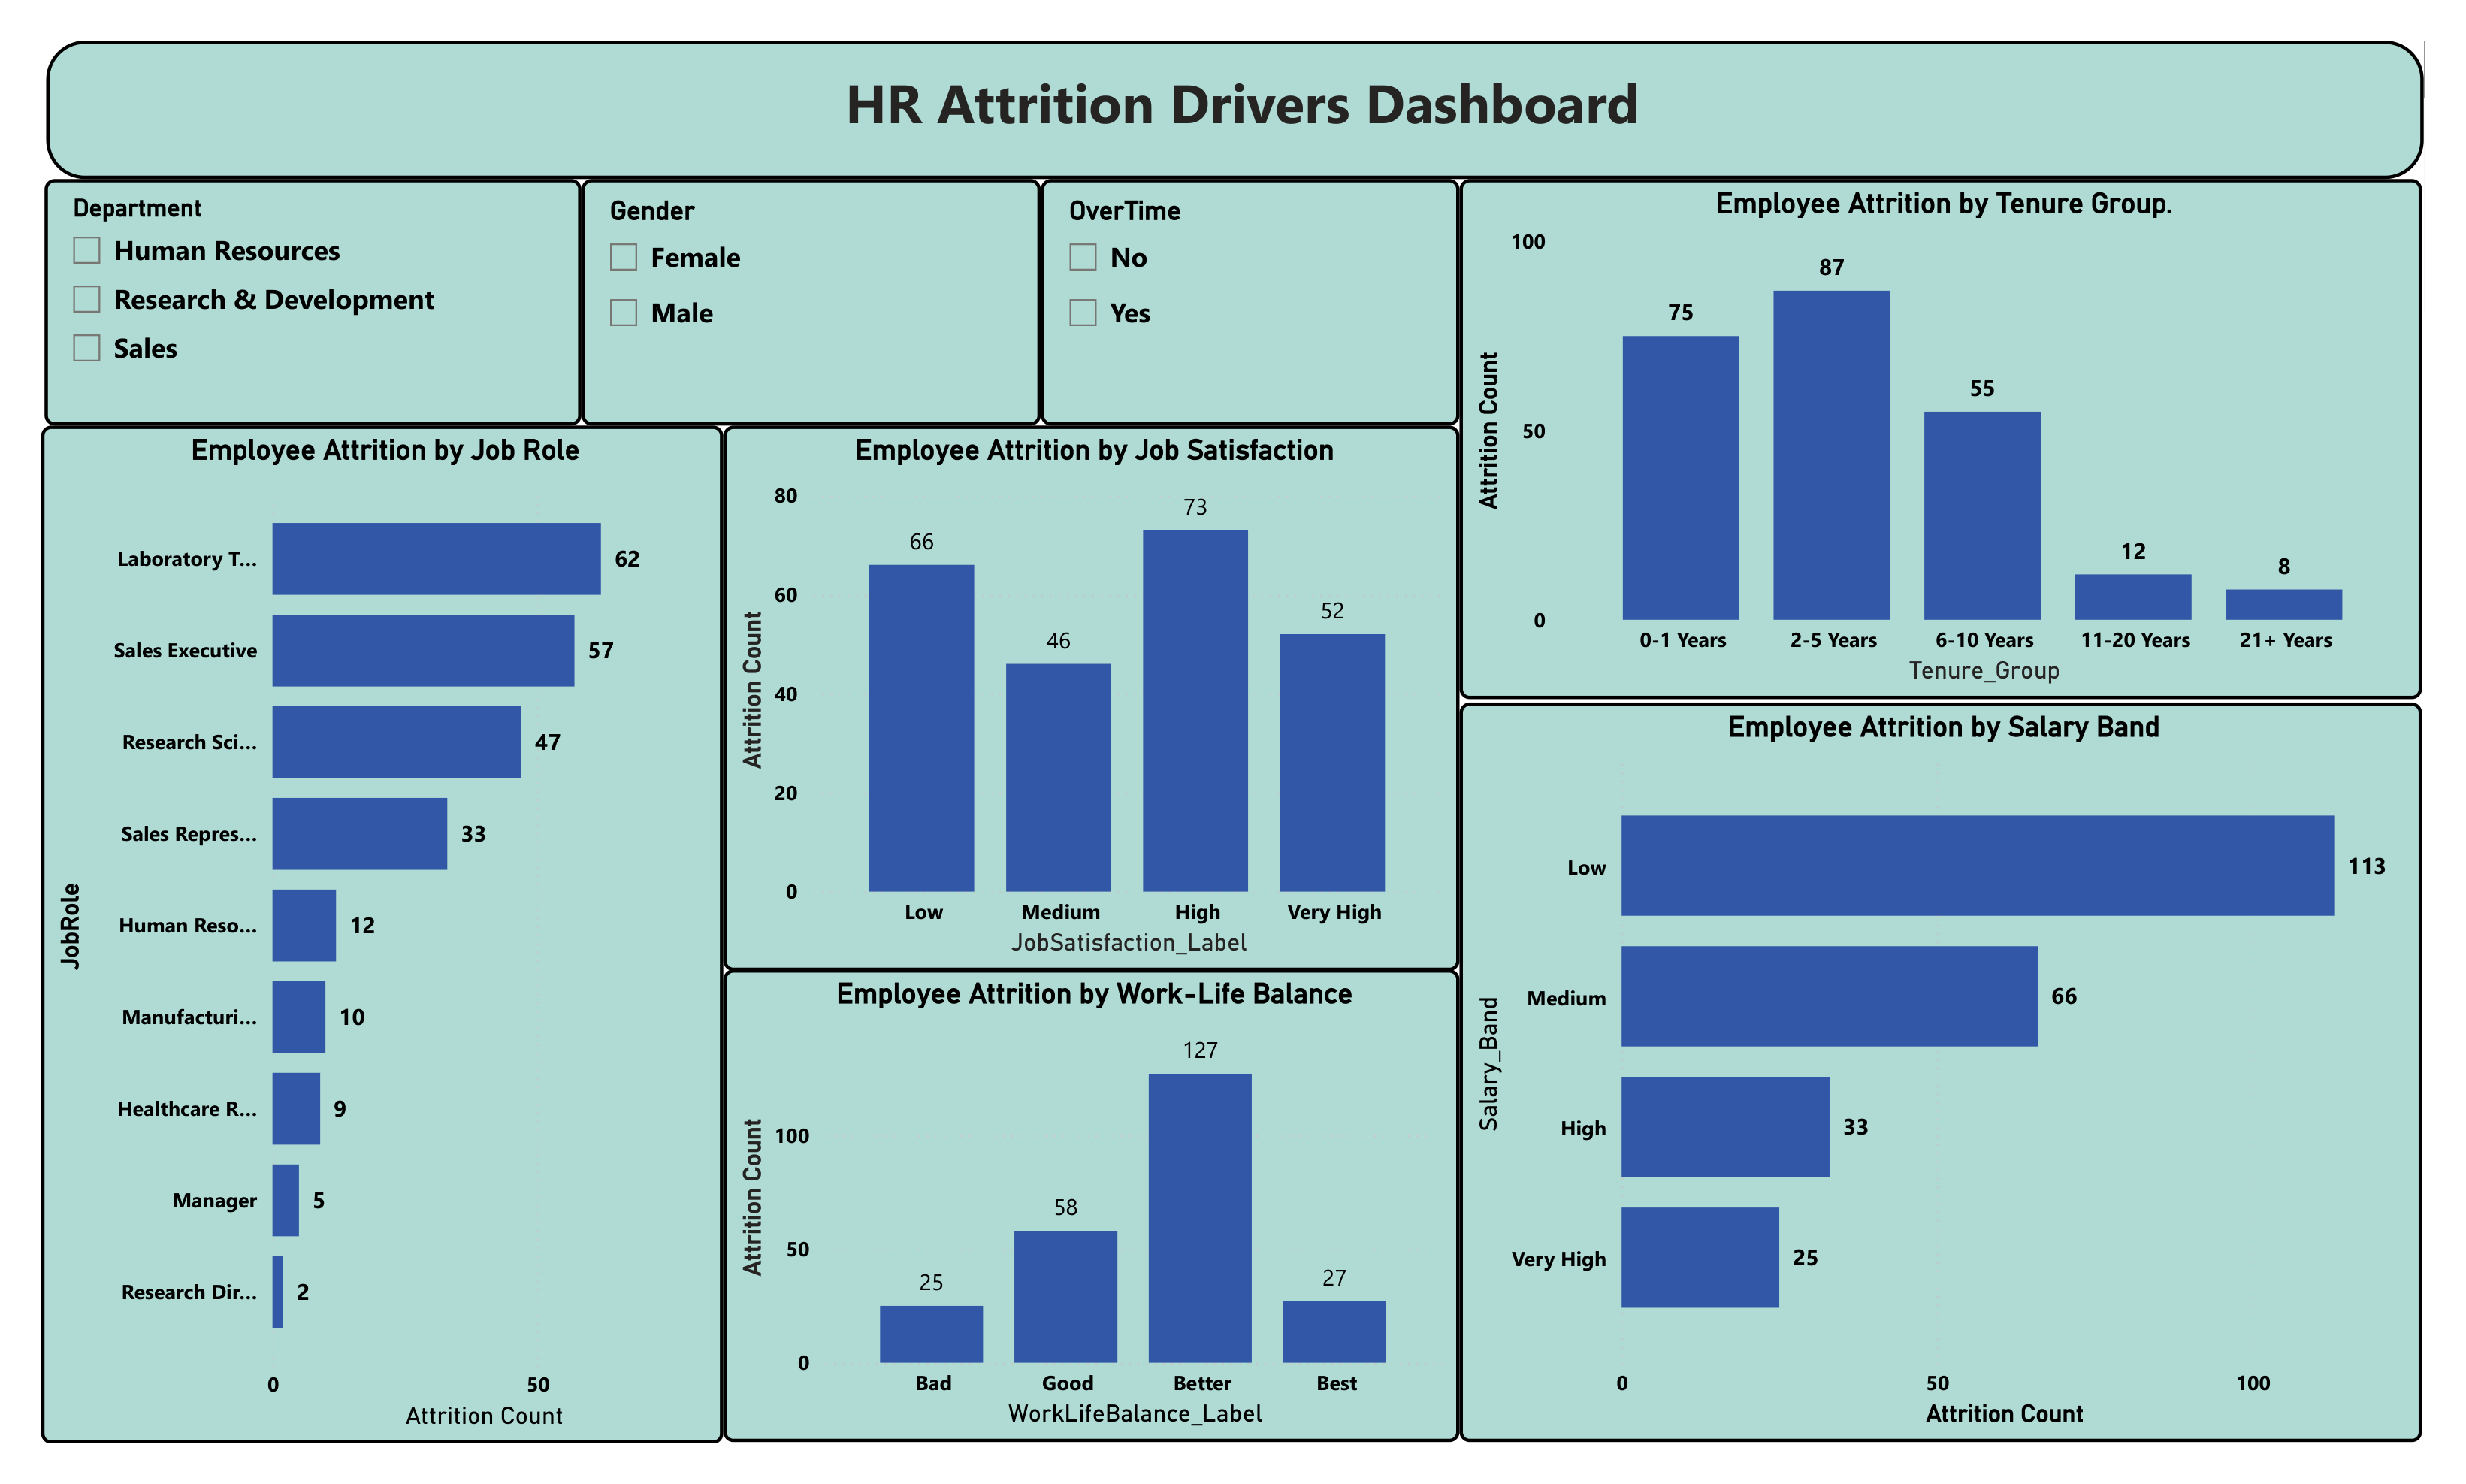

Layout of this report page (visuals, bound fields, positions):
{"tool":"powerbi","page":{"name":"Hr Attrition Drivers","canvas":[1410,800],"ordinal":1},"visuals":[{"type":"slicer","fields":{"Values":["HR_Attrition_Clean.Department"]},"box":[2.7,81.8,317.8,115.3],"z":0},{"type":"slicer","fields":{"Values":["HR_Attrition_Clean.Gender"]},"box":[320.6,82.3,271,114.9],"z":1000},{"type":"textbox","box":[2.7,0,1407.9,82.3],"z":2000},{"type":"slicer","fields":{"Values":["HR_Attrition_Clean.OverTime"]},"box":[591.6,82.3,248.3,114.9],"z":3000},{"type":"clusteredColumnChart","fields":{"Category":["HR_Attrition_Clean.JobSatisfaction_Label"],"Y":["HR_Attrition_Clean.Attrition Count"]},"box":[404.4,197.2,435.6,323.5],"z":4000},{"type":"clusteredBarChart","fields":{"Category":["HR_Attrition_Clean.Salary_Band"],"Y":["HR_Attrition_Clean.Attrition Count"]},"box":[839.9,361.8,570.4,438.4],"z":5000},{"type":"lineChart","fields":{"Category":["HR_Attrition_Clean.YearsAtCompany"],"Y":["HR_Attrition_Clean.Attrition Count"]},"box":[839.9,82.3,570.4,279.5],"z":6000},{"type":"clusteredColumnChart","fields":{"Category":["HR_Attrition_Clean.WorkLifeBalance_Label"],"Y":["HR_Attrition_Clean.Attrition Count"]},"box":[404.4,520.7,435.6,279.5],"z":7000},{"type":"clusteredBarChart","fields":{"Category":["HR_Attrition_Clean.JobRole"],"Y":["HR_Attrition_Clean.Attrition Count"]},"box":[0,197.2,404.4,603],"z":8000}]}

Visuals, with their boxes on the page's 1410x800 design canvas (x1, y1, x2, y2). These are canvas units, not pixel positions in the 2466x1484 screenshot, which may show the page scaled, cropped or inside an application window:
slicer - HR_Attrition_Clean.Department: rect(3, 82, 320, 197)
slicer - HR_Attrition_Clean.Gender: rect(321, 82, 592, 197)
textbox: rect(3, 0, 1411, 82)
slicer - HR_Attrition_Clean.OverTime: rect(592, 82, 840, 197)
clusteredColumnChart - HR_Attrition_Clean.JobSatisfaction_Label x HR_Attrition_Clean.Attrition Count: rect(404, 197, 840, 521)
clusteredBarChart - HR_Attrition_Clean.Salary_Band x HR_Attrition_Clean.Attrition Count: rect(840, 362, 1410, 800)
lineChart - HR_Attrition_Clean.YearsAtCompany x HR_Attrition_Clean.Attrition Count: rect(840, 82, 1410, 362)
clusteredColumnChart - HR_Attrition_Clean.WorkLifeBalance_Label x HR_Attrition_Clean.Attrition Count: rect(404, 521, 840, 800)
clusteredBarChart - HR_Attrition_Clean.JobRole x HR_Attrition_Clean.Attrition Count: rect(0, 197, 404, 800)
